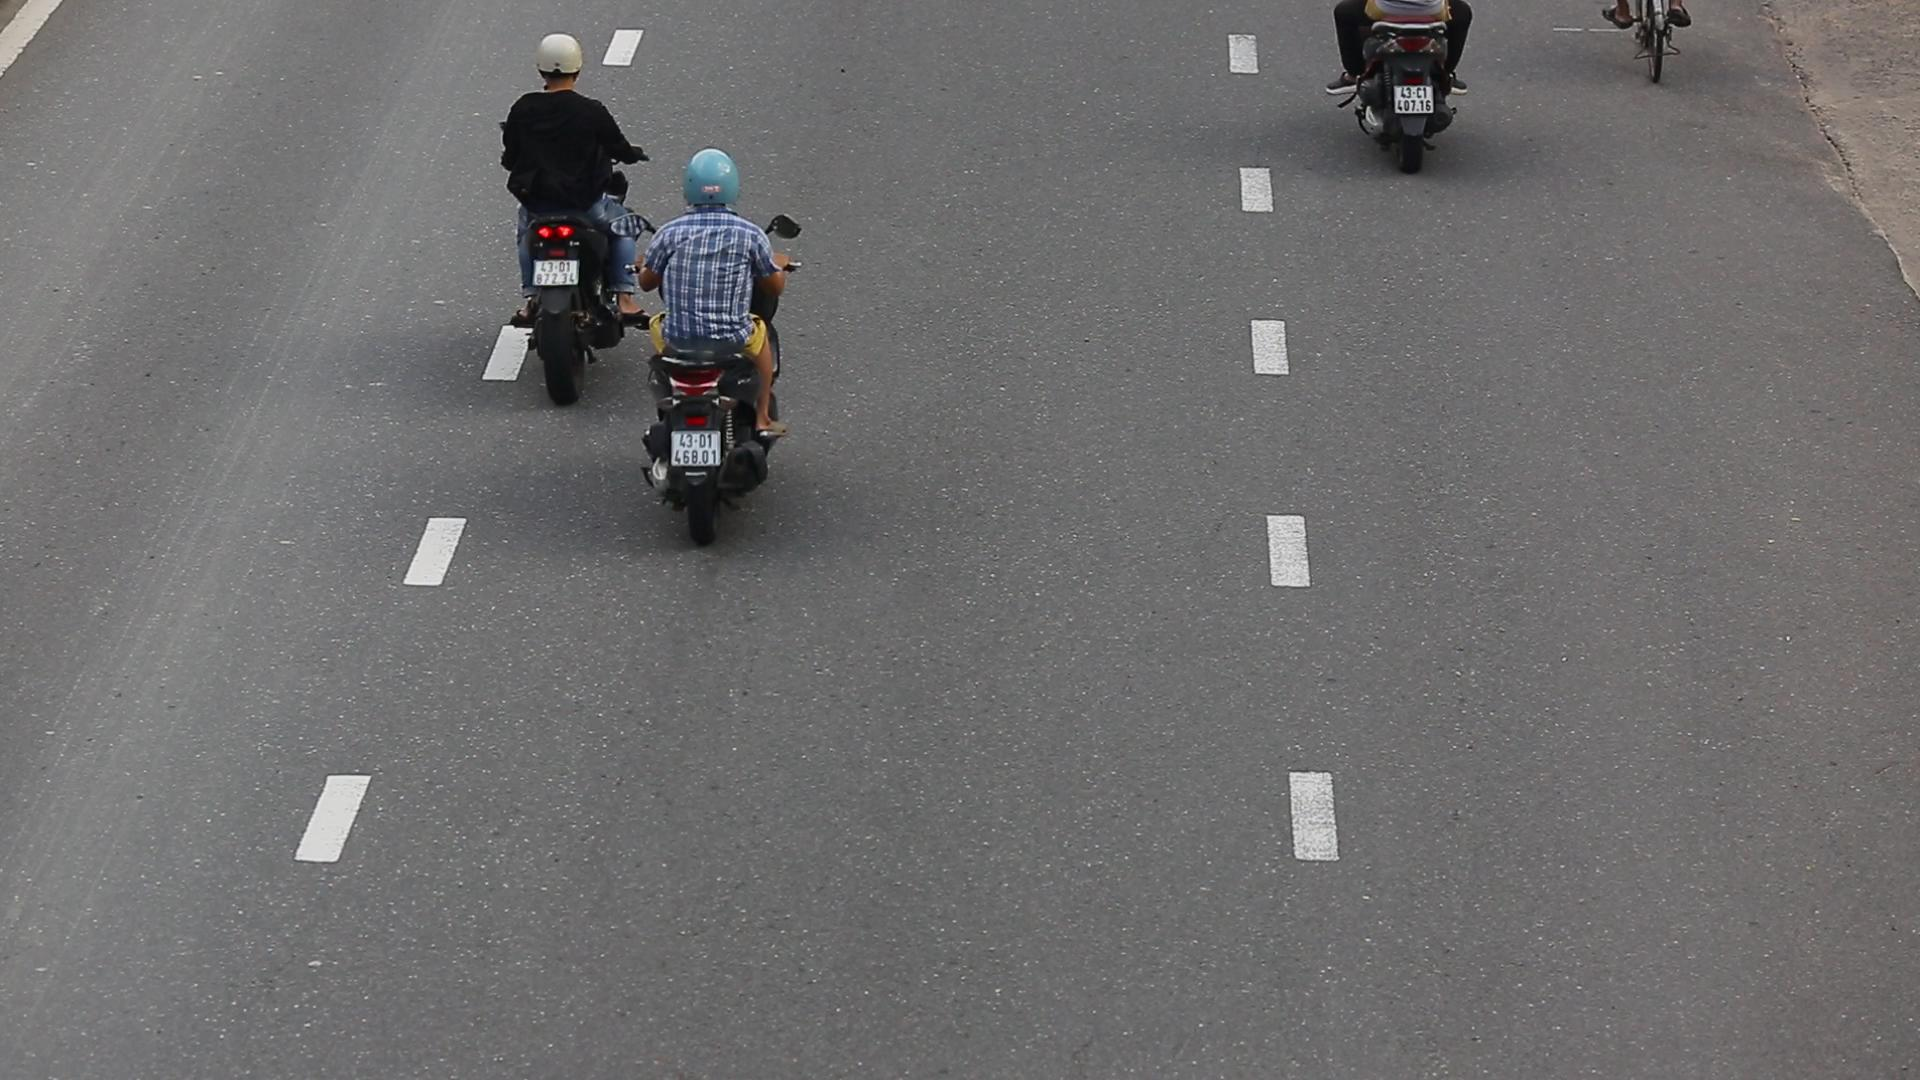motobike: (628, 141, 794, 539), (487, 17, 649, 407)
